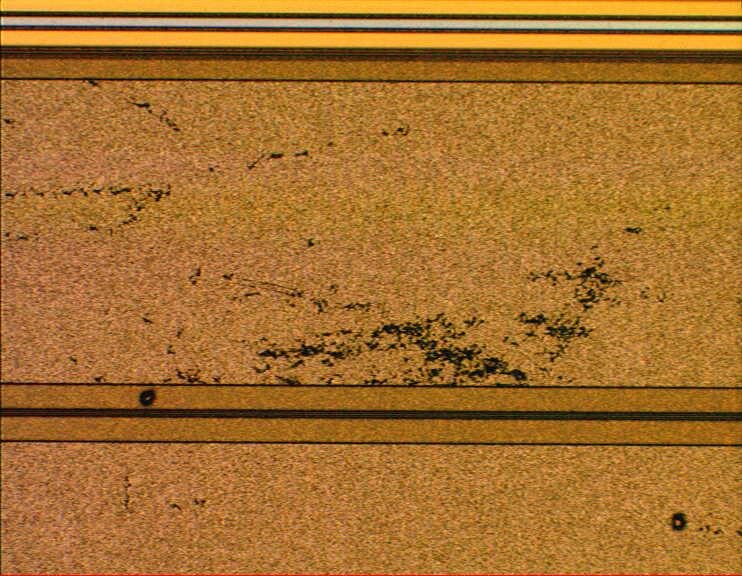SCRATCH: (1, 67, 678, 517)
